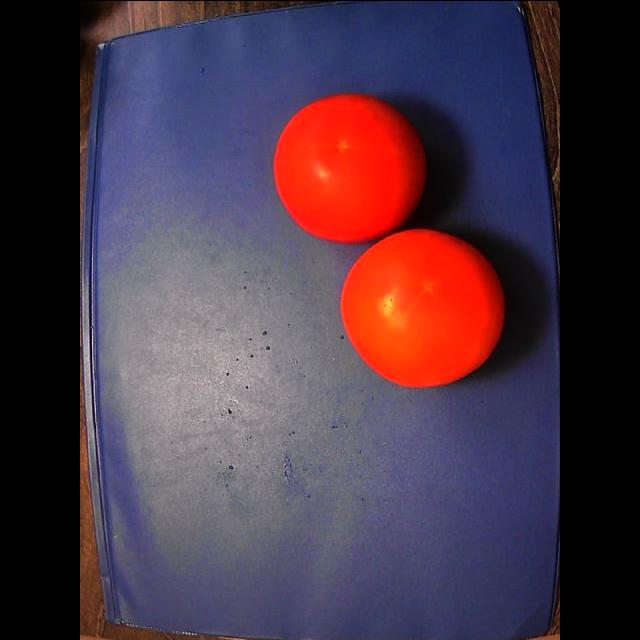tomate: (342, 229, 504, 386), (273, 93, 426, 242)
